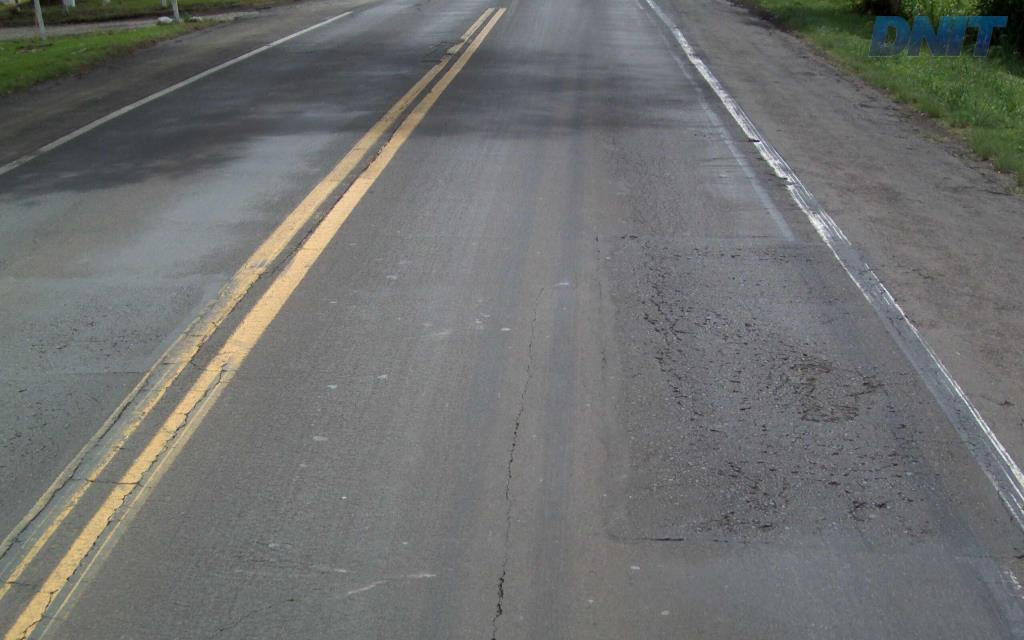crack: (649, 263, 696, 372), (772, 352, 833, 402), (882, 428, 925, 468), (489, 552, 508, 639), (717, 460, 762, 495)
